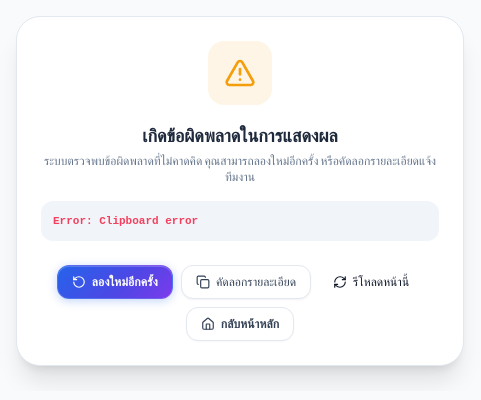
Test case: ErrorBoundary › copies error info to clipboard when copy button clicked
The width and height of the screenshot is (481, 400).
Click the button "คัดลอกรายละเอียด" at (246, 282), box [181,265,311,299]
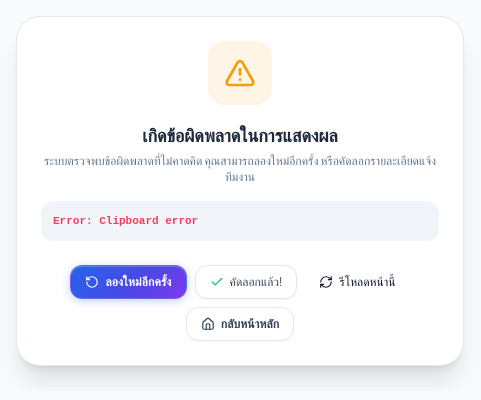
Expected: the text "คัดลอกแล้ว!" is shown, [230,274,282,290]
